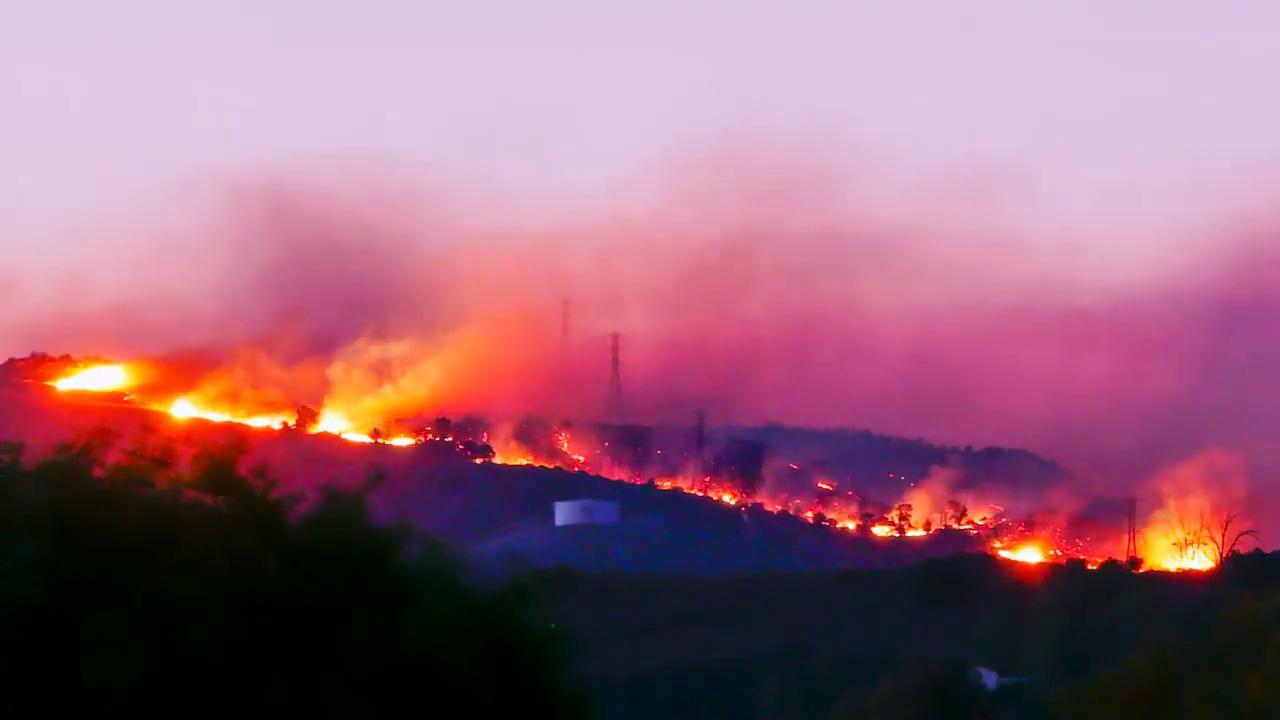fire: (166, 394, 302, 436), (54, 358, 120, 400), (1176, 530, 1218, 574), (316, 410, 364, 444), (992, 538, 1046, 566)
